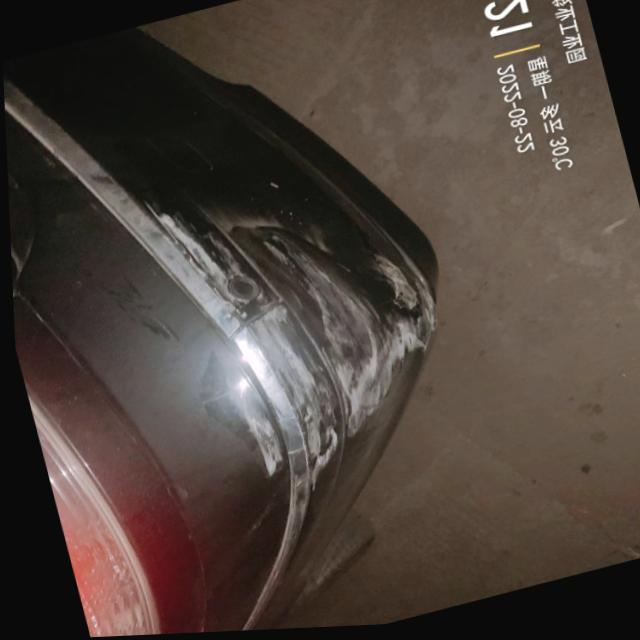Paint-fading: (133, 164, 435, 490)
